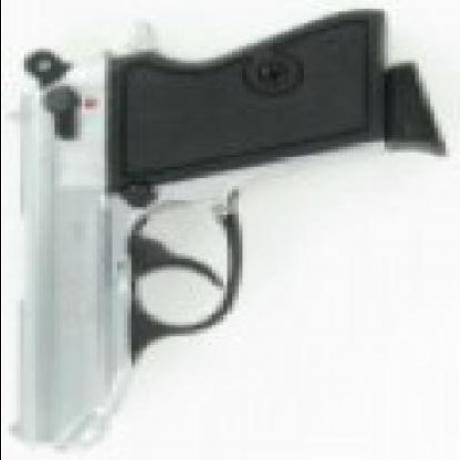weapon: (6, 9, 390, 453)
